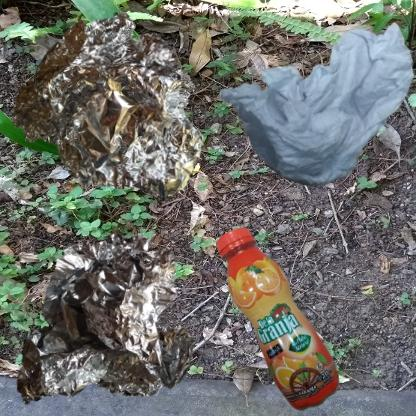aluminio: (10, 213, 226, 416), (10, 10, 206, 201)
botella: (213, 213, 363, 416)
papel: (213, 10, 416, 195)
